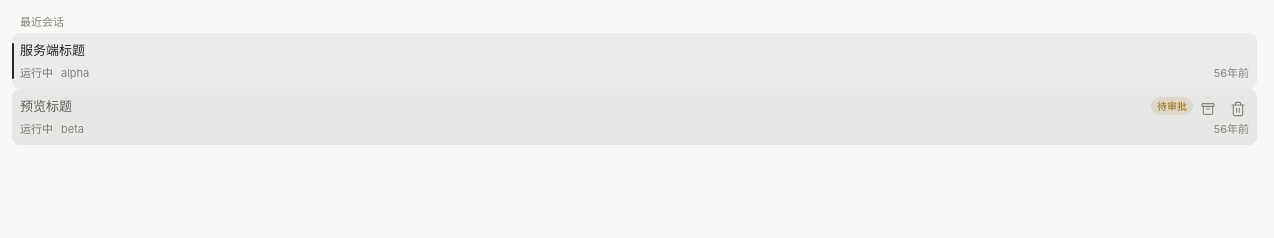
RecentThreads › 支持中键和键盘上下文菜单在新标签打开会话
This screenshot has width=1274, height=238.
Press F10 in the button "预览标题 待审批 运行中 beta 56年前", box [12,89,1257,145]
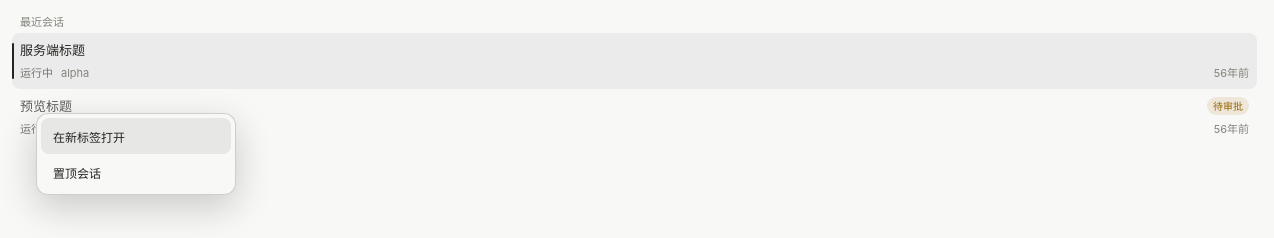
expect the menu named "会话“预览标题”操作" is shown: met, box [36,113,236,195]
Click the menu item "在新标签打开" at (136, 136), box [41,118,231,154]
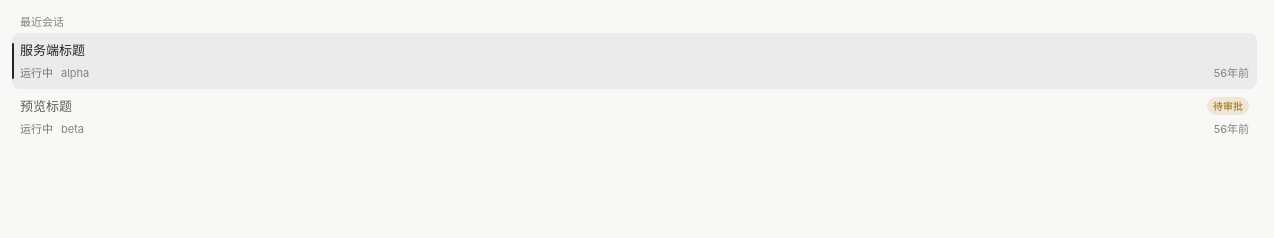
expect the menu is gone: met
